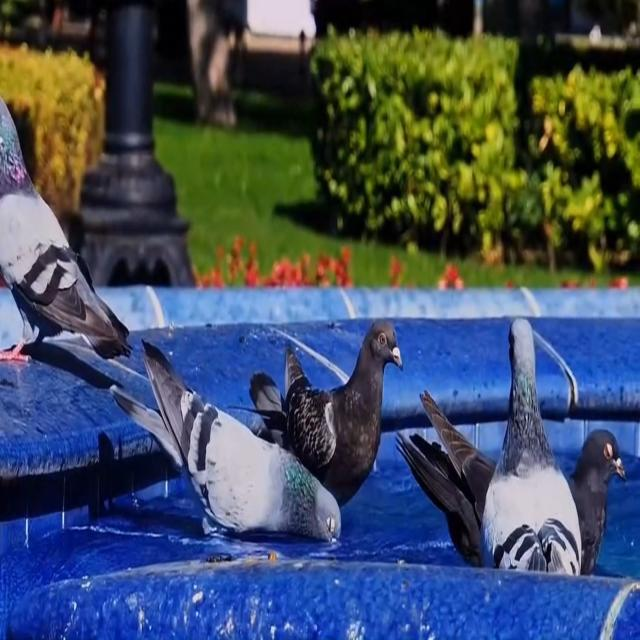bird: (120, 336, 364, 563), (0, 82, 132, 416), (403, 398, 637, 570), (240, 289, 405, 497), (482, 295, 582, 615)
